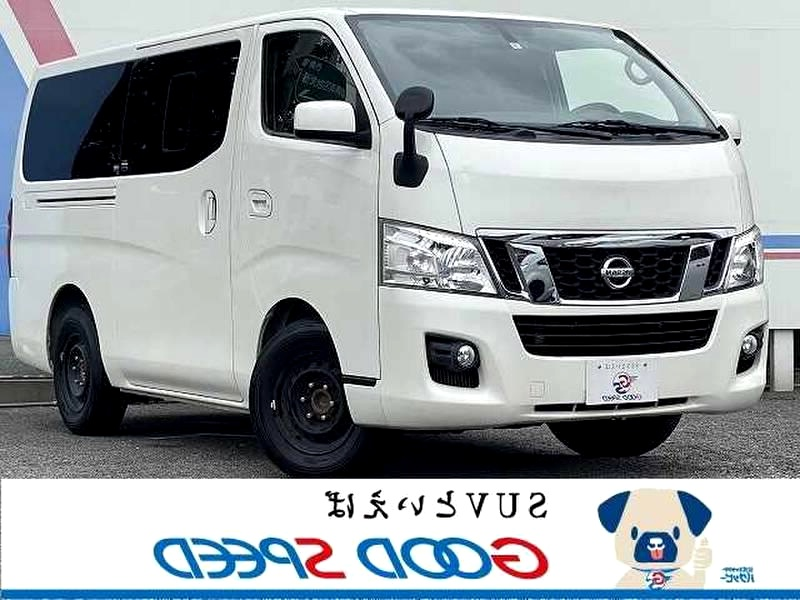van: (6, 13, 763, 446)
